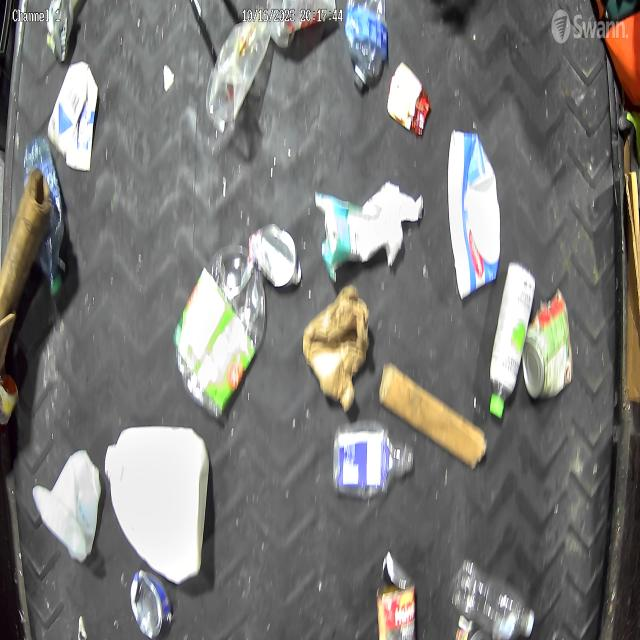can: (521, 289, 574, 402), (366, 547, 418, 640), (246, 217, 307, 294), (125, 569, 179, 638), (35, 0, 77, 63)
milk_jug: (102, 417, 208, 588), (30, 444, 107, 560)
non_white_jug: (299, 282, 372, 411)
plastic_bottle: (171, 239, 266, 418), (20, 136, 69, 292), (449, 553, 541, 636), (338, 0, 388, 83)
